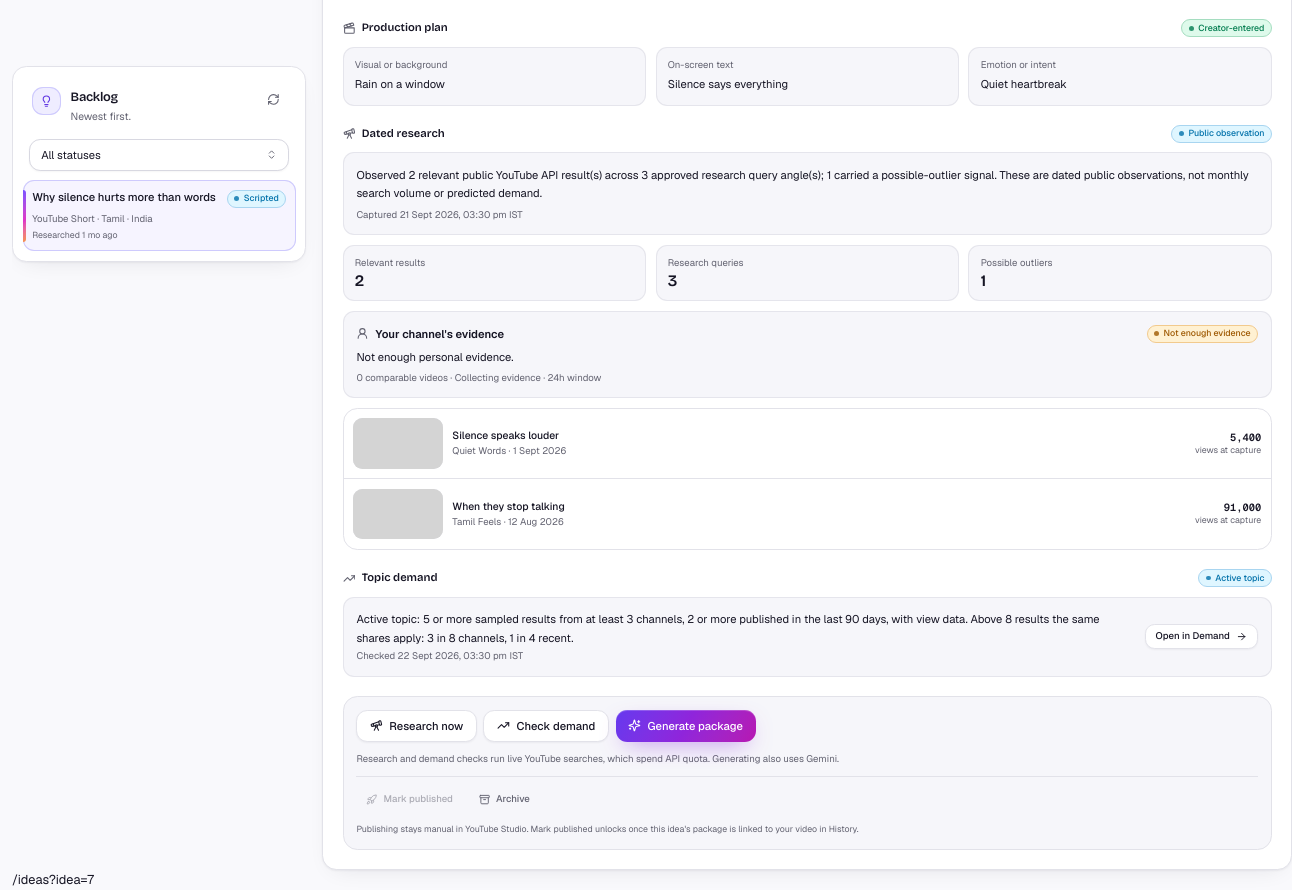
IdeasPage › reports a failed research run with its request ID
The image size is (1292, 890).
(page scrolled)
Click the button "Research now" at (417, 726), box [356,710,477,742]
(page scrolled)
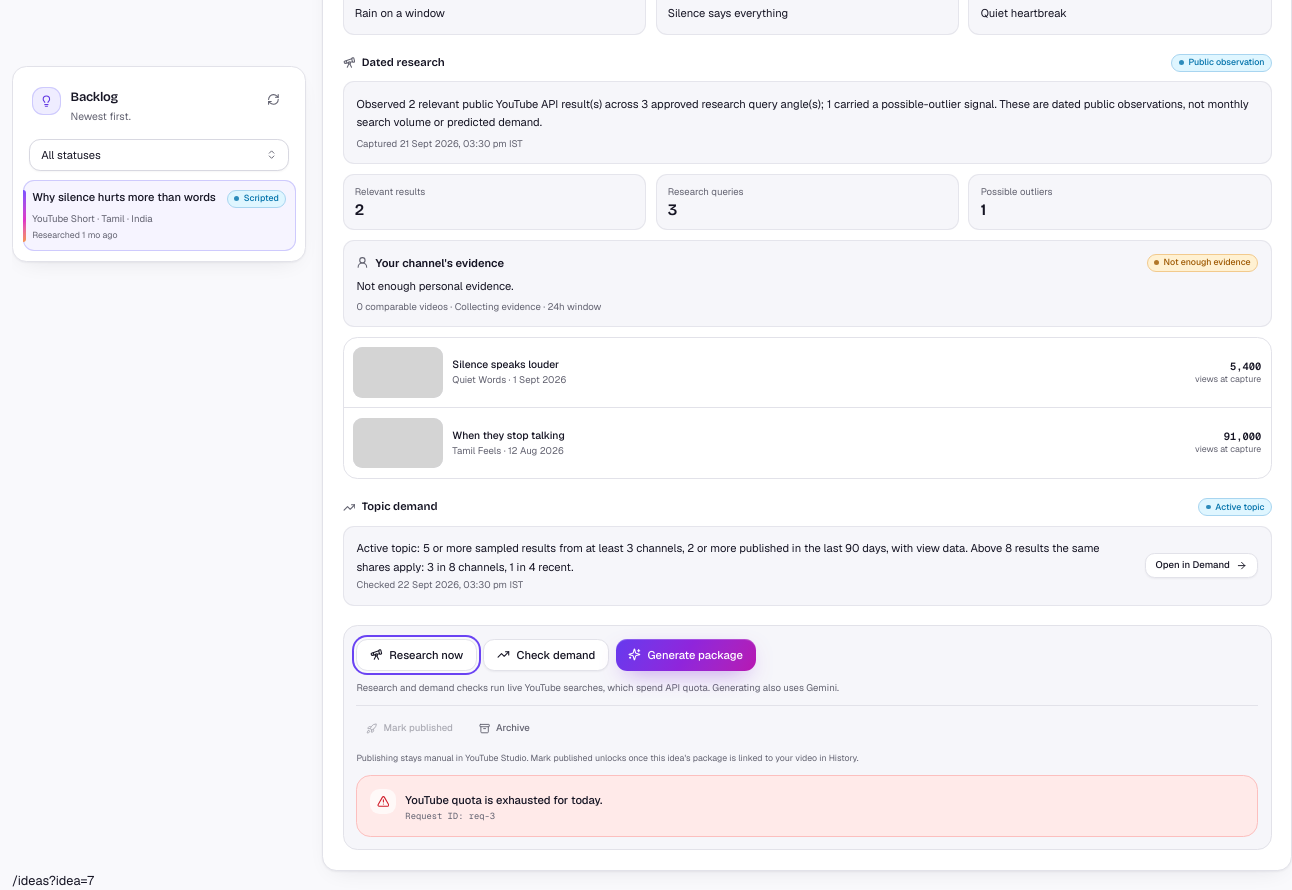
Expected: the text "YouTube quota is exhausted for today." is shown, [405,792,602,808]
Expected: the text "Request ID: req-3" is shown, [405,810,495,822]
